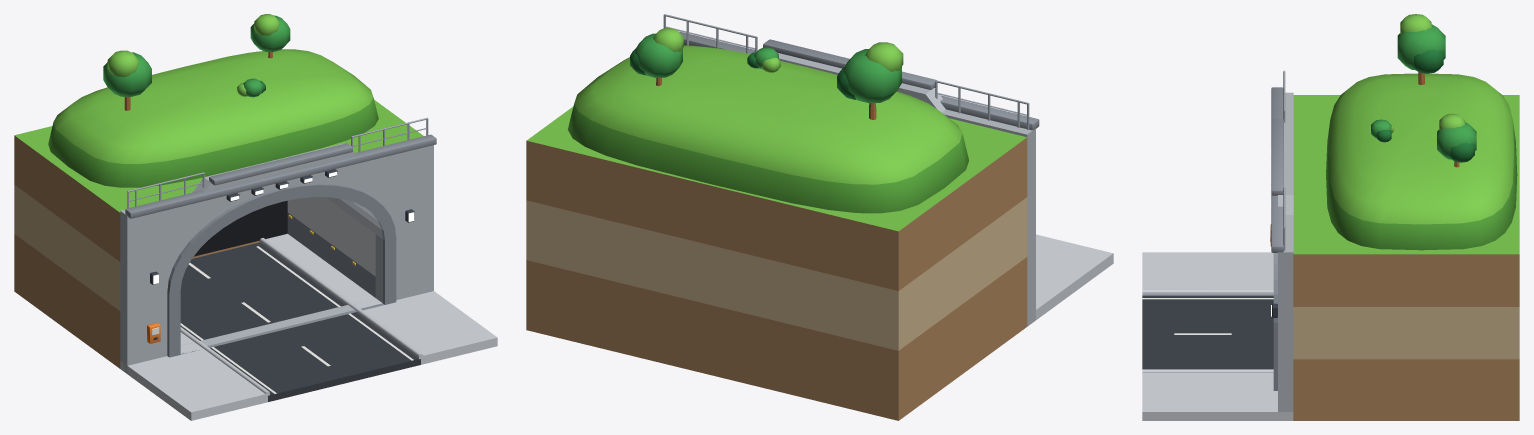
The model's file is tunel_rua.glb.
3 views of the same model, side by side, from view 1: azimuth 30°, elevation 25°; view 2: azimuth 150°, elevation 25°; view 3: azimuth 270°, elevation 25° (orthographic). The views are drawn at different scales.
Visible parts, largest first — view 1: tunel_rua; view 2: tunel_rua; view 3: tunel_rua.
Part boxes in pixels (x1,y1,x2,y2): tunel_rua: [14, 14, 497, 420]; tunel_rua: [526, 14, 1113, 420]; tunel_rua: [1142, 14, 1519, 420].
Bounding box in the file's own units: 15 × 12.13 × 15.
Materials: 2 (1 with a texture image).
